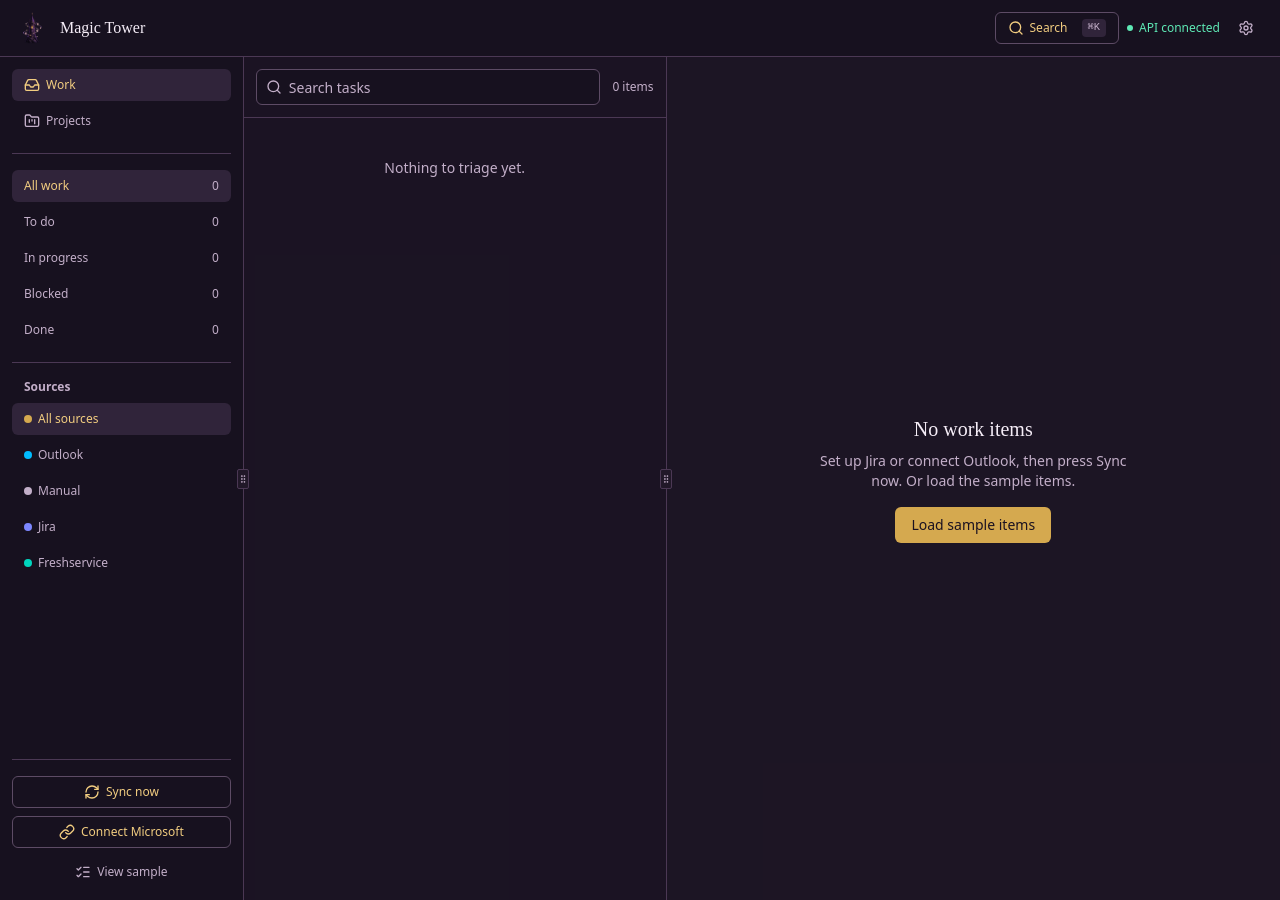
it: App › an empty connected queue says so and offers the sample items
Expected: the text "API connected" is shown, top-left (1127, 20), bottom-right (1220, 36)
Expected: the heading "No work items" is shown, top-left (914, 418), bottom-right (1033, 440)
What coordinates should you click on to do the following:
click the button "Load sample items"
I would click on:
 (973, 524)
Its box is top-left (895, 506), bottom-right (1051, 542).
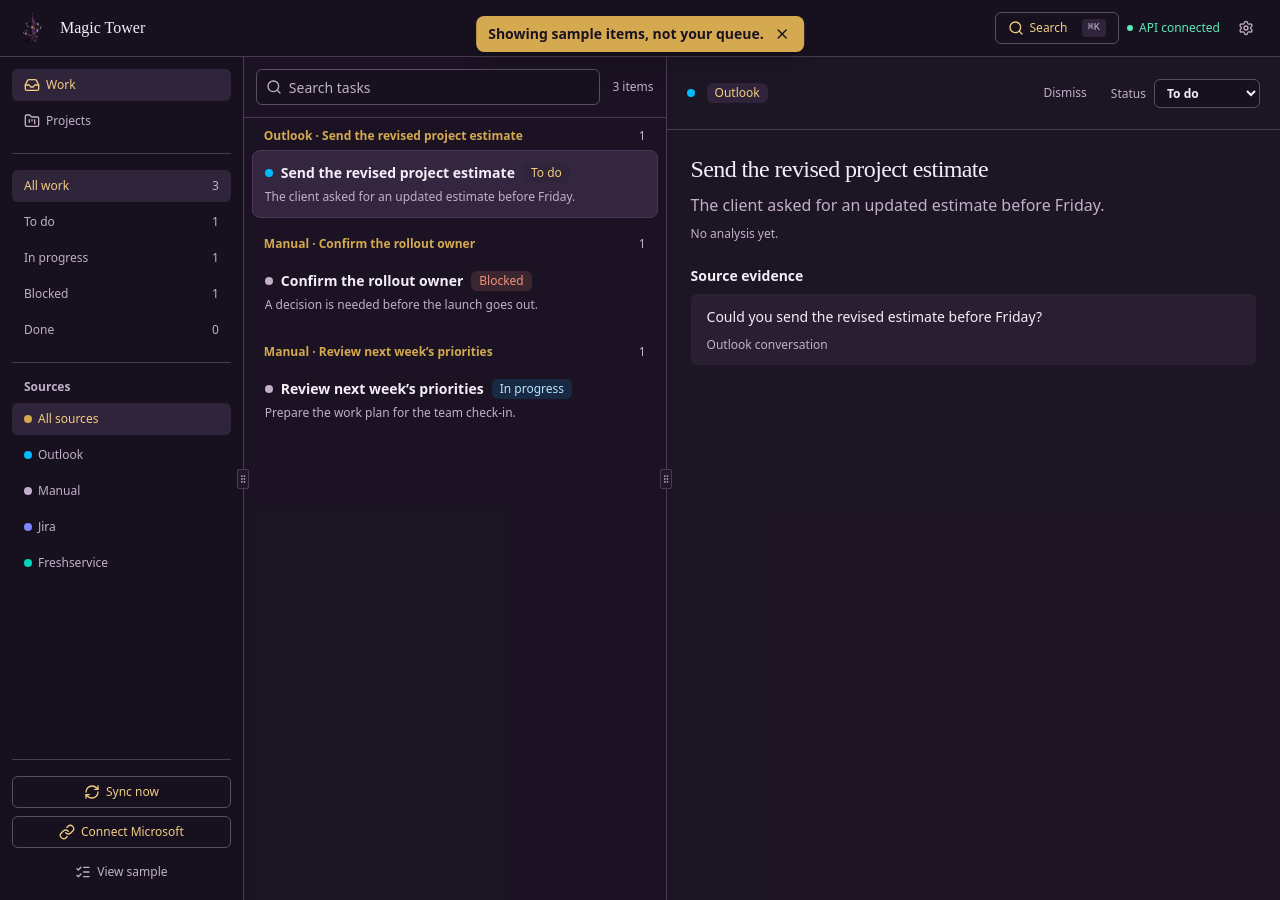
Expected: the text "Send the revised project estimate" is shown 2 times, top-left (281, 163), bottom-right (515, 183); top-left (690, 156), bottom-right (988, 182)
Expected: the text "Showing sample items, not your queue." is shown, top-left (476, 16), bottom-right (804, 52)
